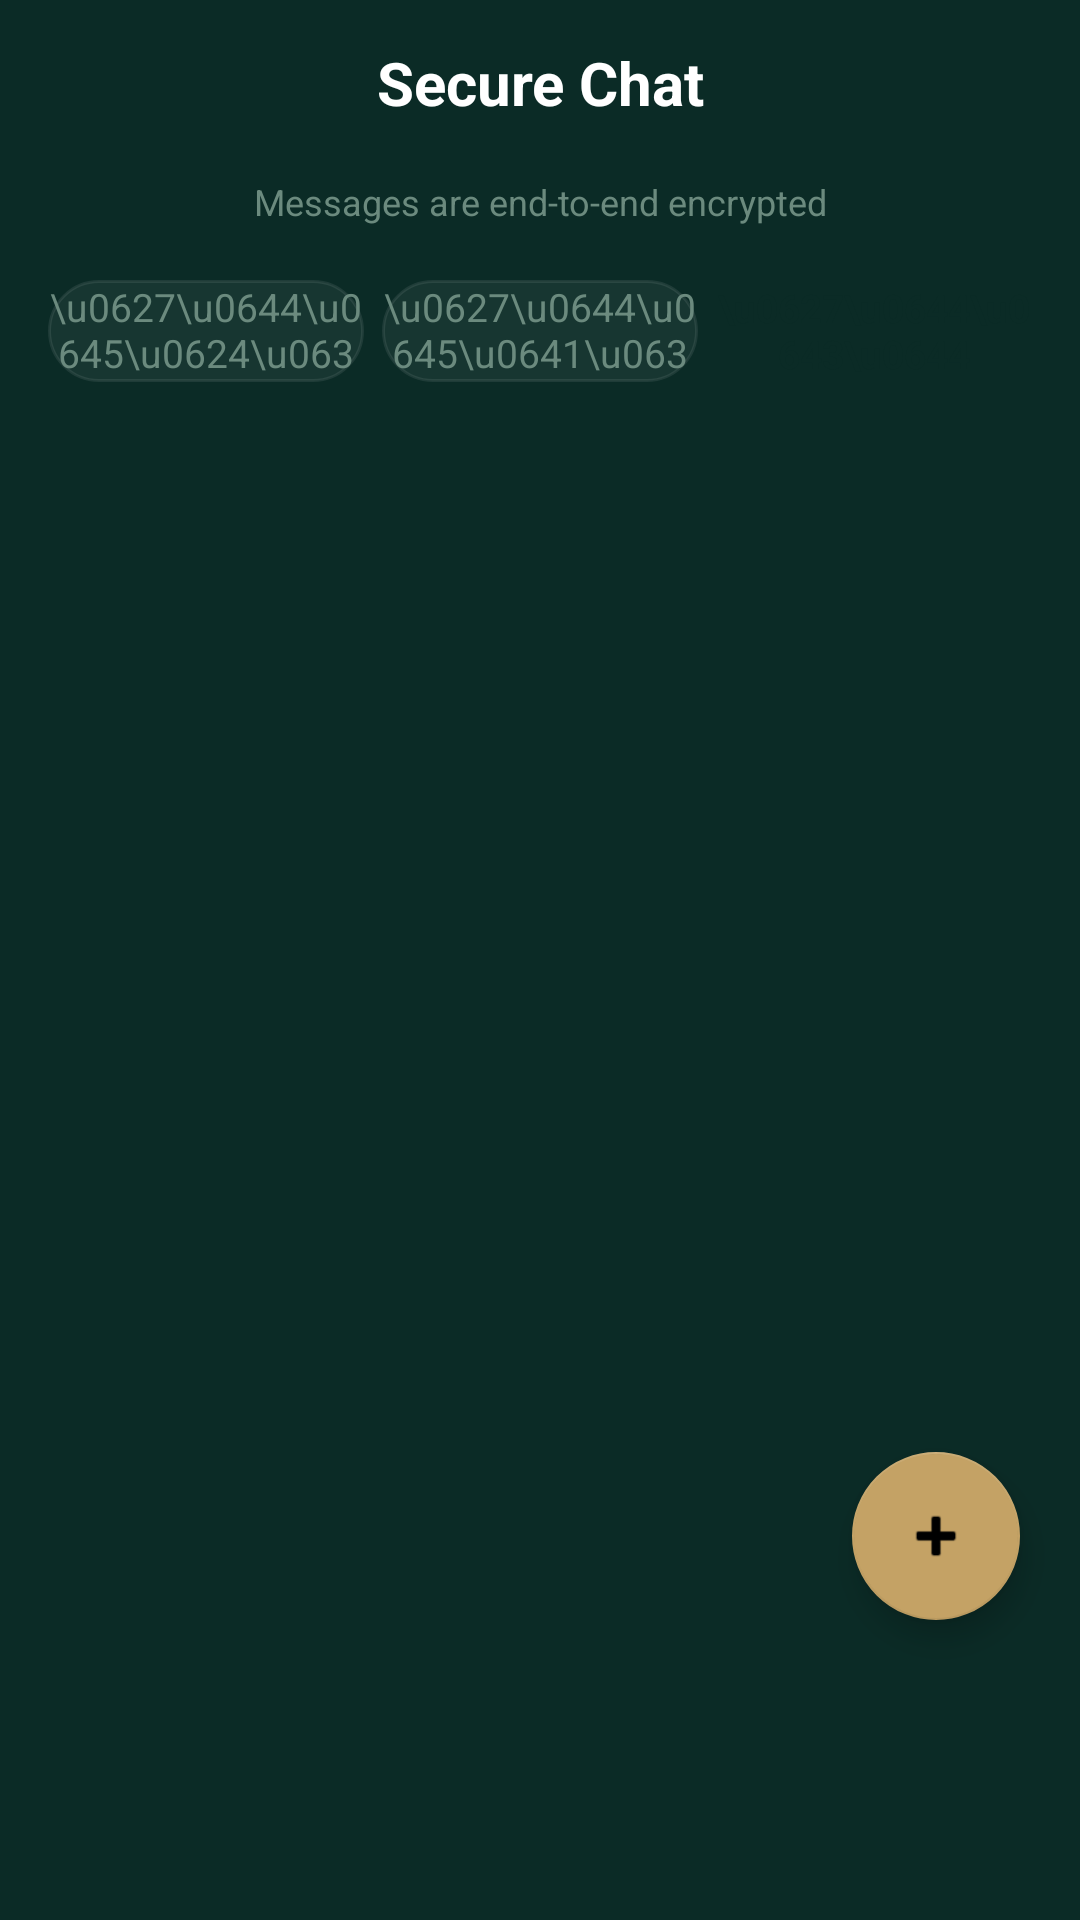

Where icons sit on this 1080*1920 app screen, as (x1=x1, y1=y1, x2=x2, y2=y2):
New chat: (x1=852, y1=1452, x2=1020, y2=1620)
